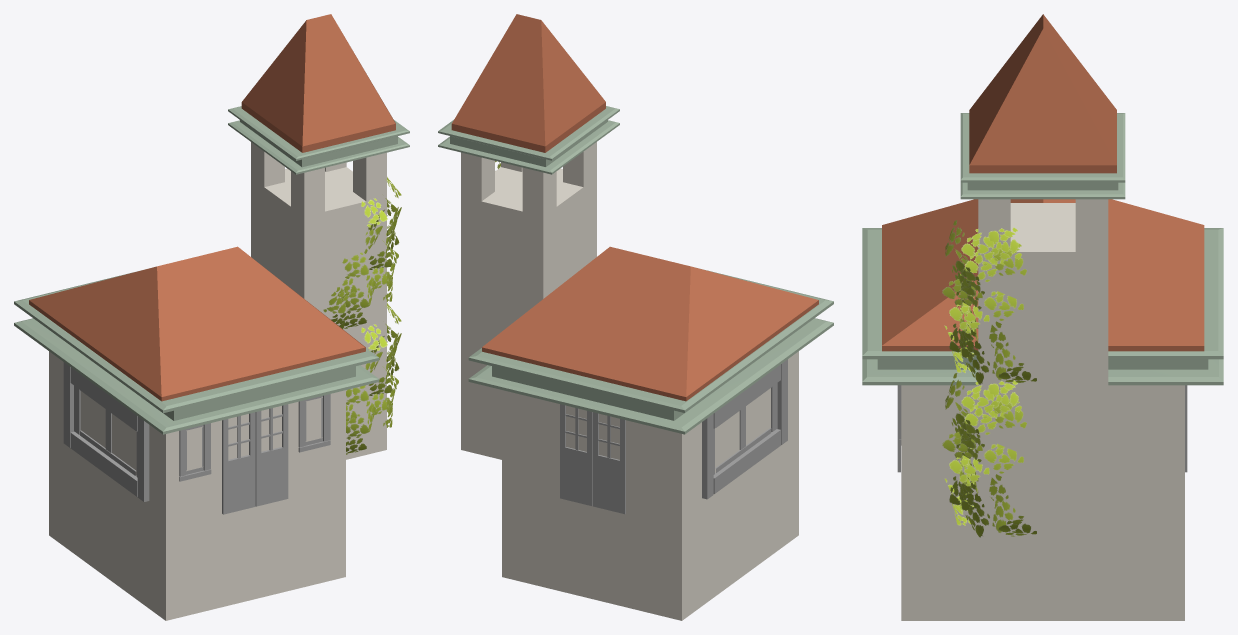
File: SmallHouse3_Low.fbx
3 views of the same model, side by side, from view 1: azimuth 30°, elevation 25°; view 2: azimuth 150°, elevation 25°; view 3: azimuth 270°, elevation 25° (orthographic). The views are drawn at different scales.
Visible parts, largest first — view 1: polySurface165, polySurface73; view 2: polySurface165, polySurface73; view 3: polySurface165, polySurface73.
Boxes of the visible parts, <box> form: polySurface165: <box>49,142,401,620</box>; polySurface73: <box>14,14,409,434</box>; polySurface165: <box>461,142,798,620</box>; polySurface73: <box>438,14,833,434</box>; polySurface165: <box>897,199,1187,620</box>; polySurface73: <box>862,14,1223,385</box>.
Size of the model in its own units: 32.28 by 54.24 by 28.74.
